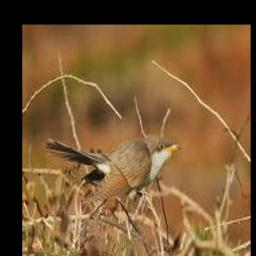Cuckoo: (46, 136, 183, 200)
